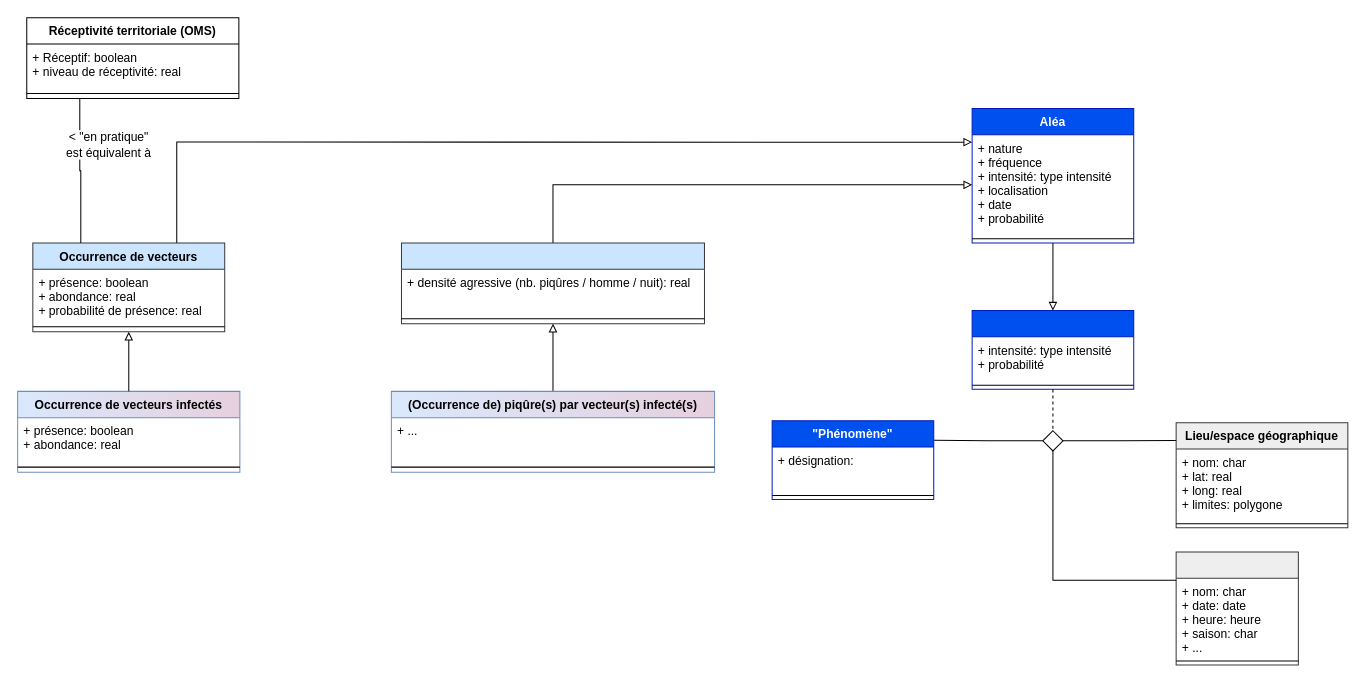
Some shapes in this 1366 by 683 pixel diagram are drawn without their labels. The shapes that lost their labels are listed below. From the top down, each one's box as (x1, y1, x2, y2) in pixels, then its label:
(400, 242, 704, 324): (Occurrence de) piqûre(s)
(971, 310, 1134, 389): Evénement
(1175, 551, 1298, 665): Moment/période
